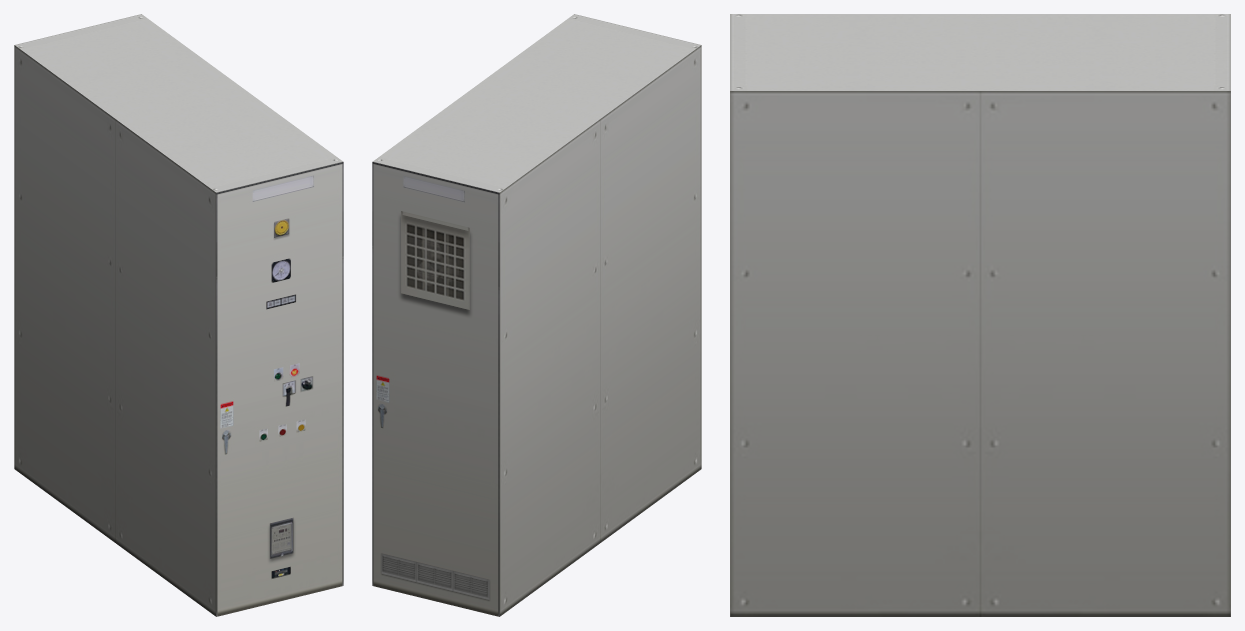
3 renders of one model, left to right at view 1: azimuth 30°, elevation 25°; view 2: azimuth 150°, elevation 25°; view 3: azimuth 270°, elevation 25°, orthographic. The views are drawn at different scales.
Visible parts, largest first — view 1: SC-U1; view 2: SC-U1; view 3: SC-U1.
Boxes of the visible parts, x1,y1,x2,y2 form: SC-U1: (14, 14, 343, 616); SC-U1: (372, 14, 701, 616); SC-U1: (730, 14, 1230, 616).
Bounding box in the file's own units: 0.8 × 2.55 × 2.2.
Materials: 1 (1 with a texture image).
